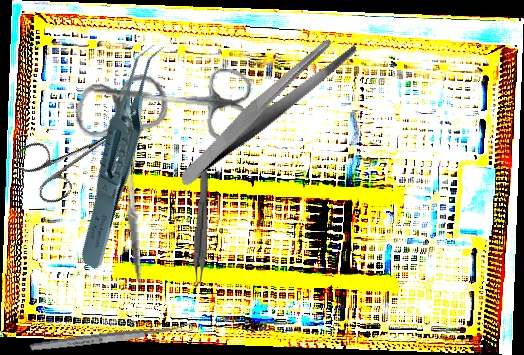Dressing Forceps: (152, 28, 381, 189)
Iris Scissors: (70, 71, 191, 295), (81, 56, 256, 144), (12, 98, 141, 210)
Surgical Spoon: (28, 321, 195, 354)
Tissue Forceps: (36, 38, 211, 272), (190, 170, 210, 287)
